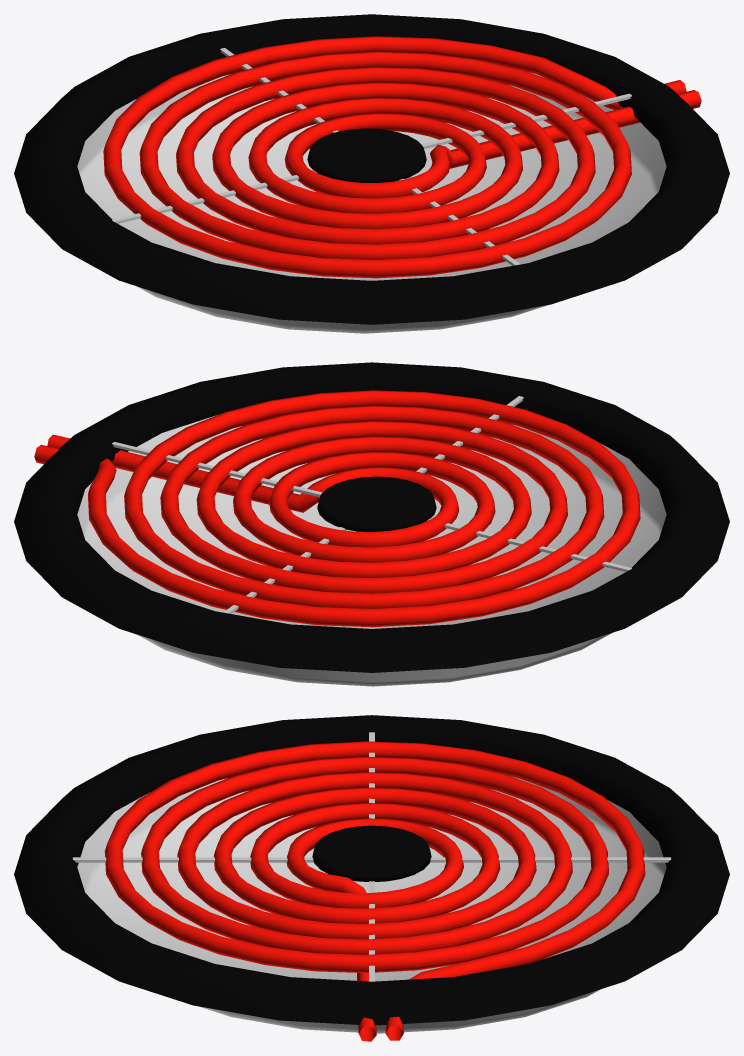
File: RangeStyle7.fbx
3 renders of one model, top to bottom at view 1: azimuth 30°, elevation 25°; view 2: azimuth 150°, elevation 25°; view 3: azimuth 270°, elevation 25°, orthographic.
Parts seen in each view (by area): view 1: Spiral.002; view 2: Spiral.002; view 3: Spiral.002.
Boxes of the visible parts, x1,y1,x2,y2 form: Spiral.002: (14, 14, 729, 333); Spiral.002: (14, 362, 729, 686); Spiral.002: (14, 715, 729, 1041).
Size of the model in its own units: 261 by 29.97 by 255.
